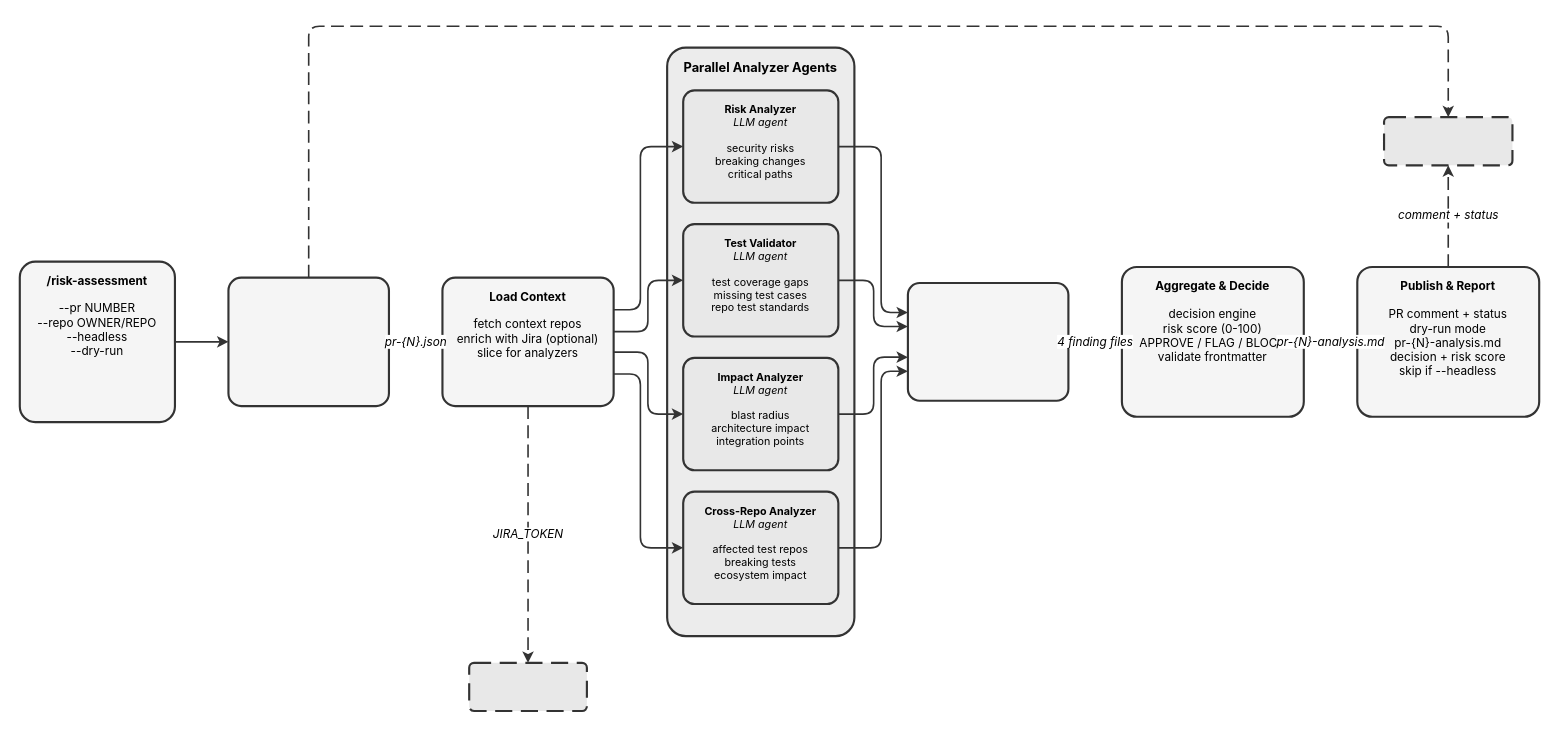
This 1558x731 diagram has some shape labels left out. The shapes that lost their labels are listed below. From the top down, each one's centre as x and y in pixels, then its label:
At [1447,141]: "GitHub API".
At [308,341]: "Extract PR gh CLI metadata diff, files, commits pr-{N}.json".
At [987,341]: "Verify Outputs check 4 artifacts risk, test, impact, crossrepo findings".
At [527,686]: "Jira API".
